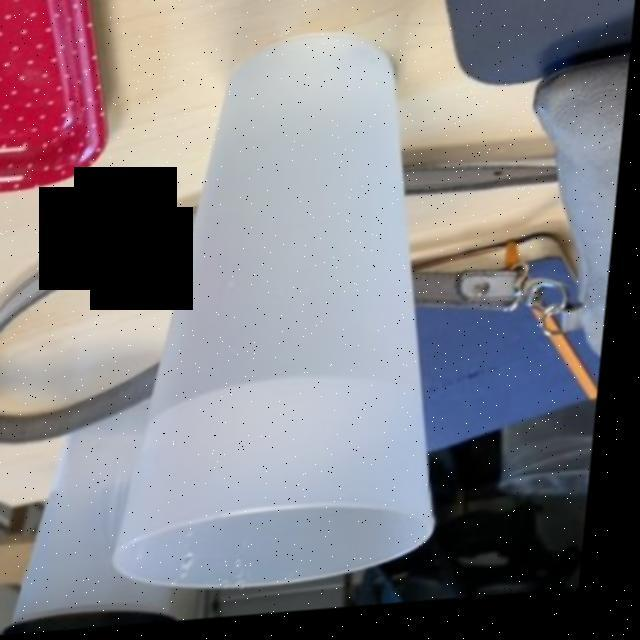water: (142, 73, 432, 567)
